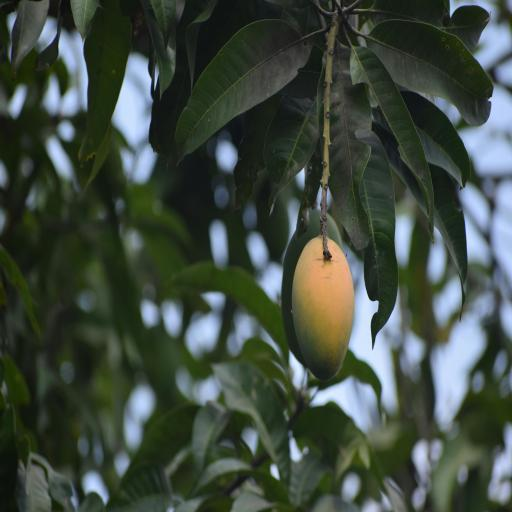Mango-Detection: (252, 146, 400, 440)
